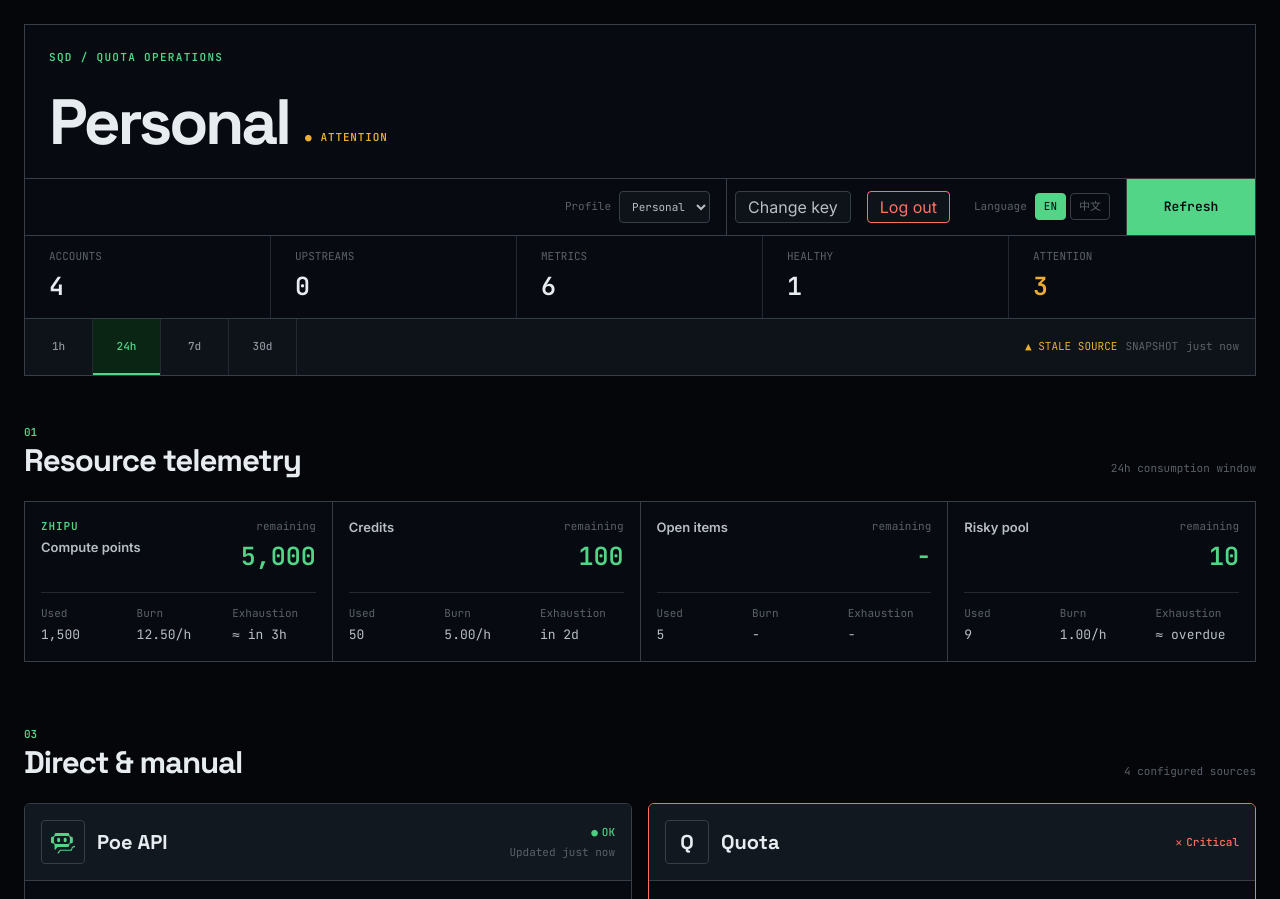
Test: refresh idle -> refreshing -> rate-limited with Retry-After
Click the button "Refresh".
click(1191, 206)  # box x1=1127 y1=178 x2=1255 y2=234
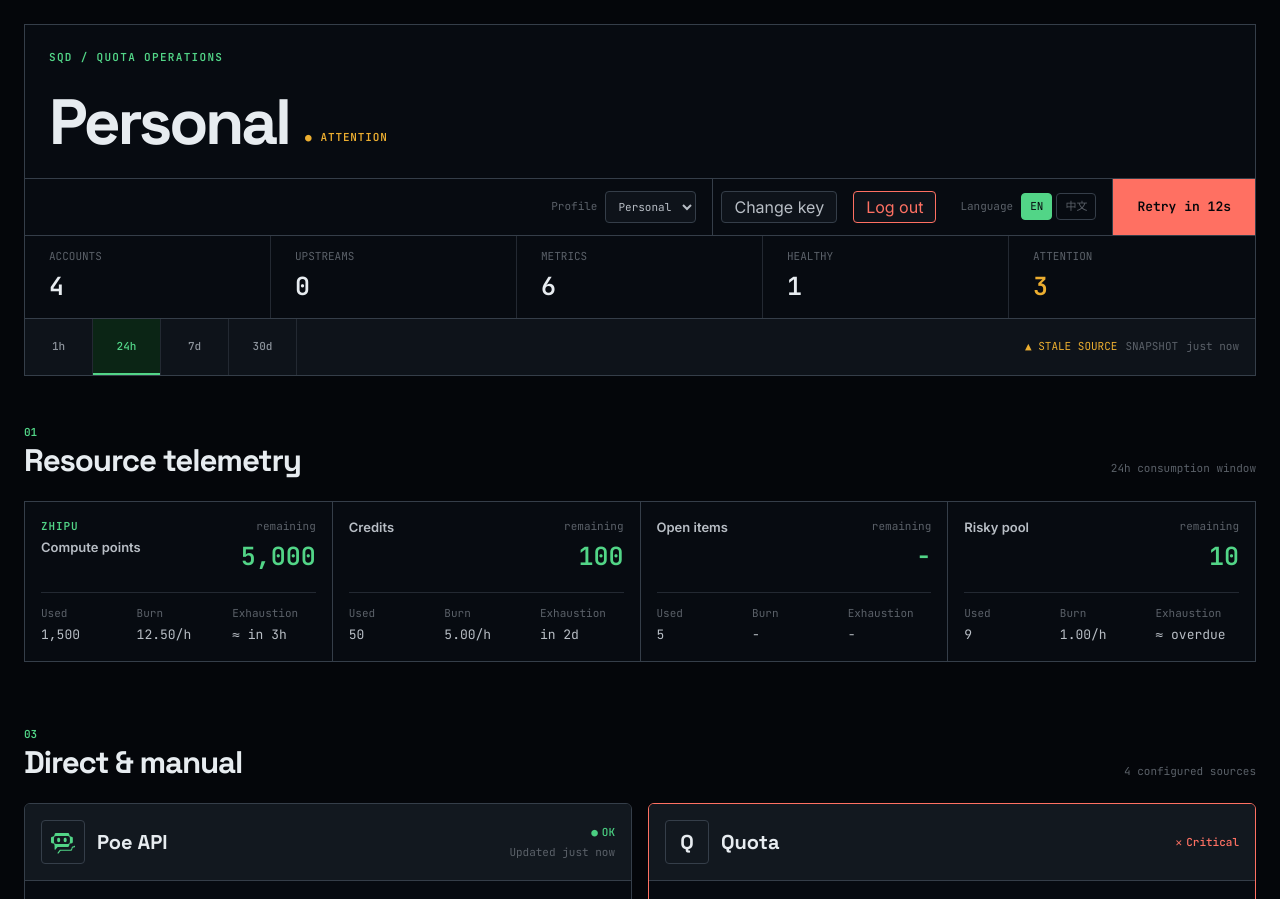
Result: the text "Retry in 12s" is shown at x1=1137 y1=198 x2=1231 y2=215
